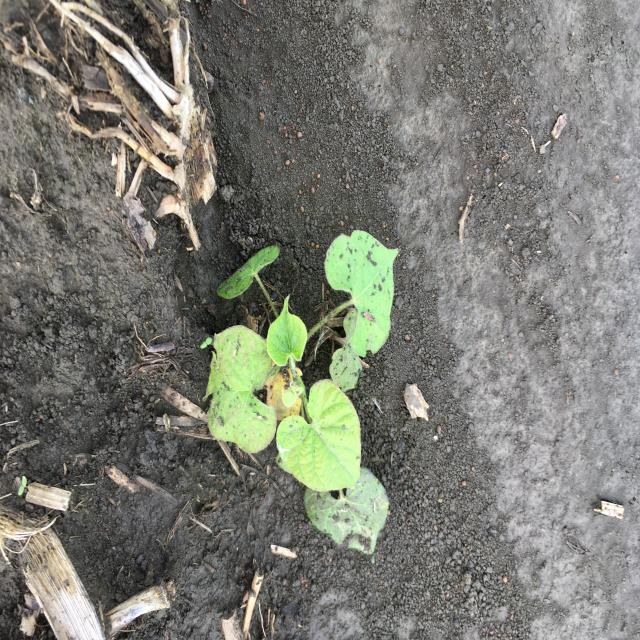MorningGlory: (200, 227, 403, 558)
